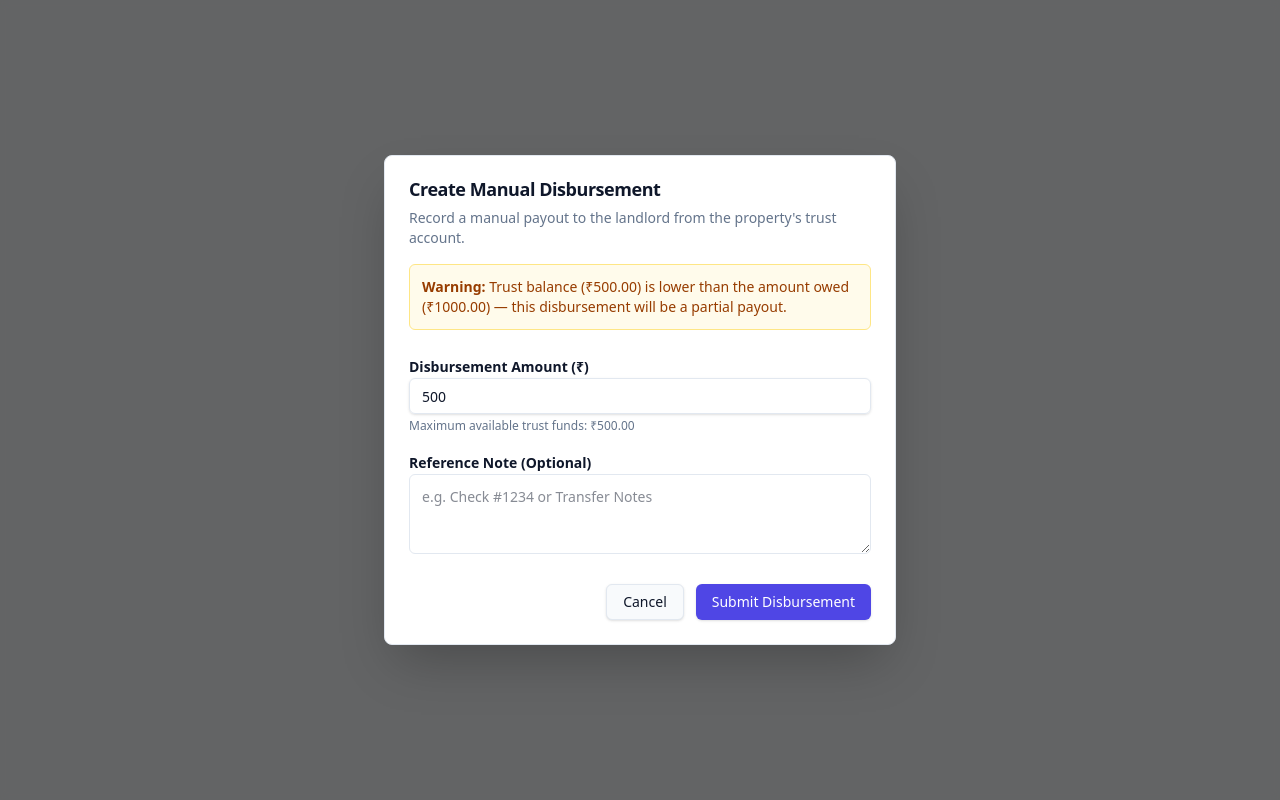
Test: CreateDisbursementDialog › shows an inline error and blocks submission if amount exceeds trustLedgerBalance
Replace the text in the number field labelled "Disbursement Amount (₹)" with "600": (640, 396) x1=409 y1=378 x2=871 y2=414
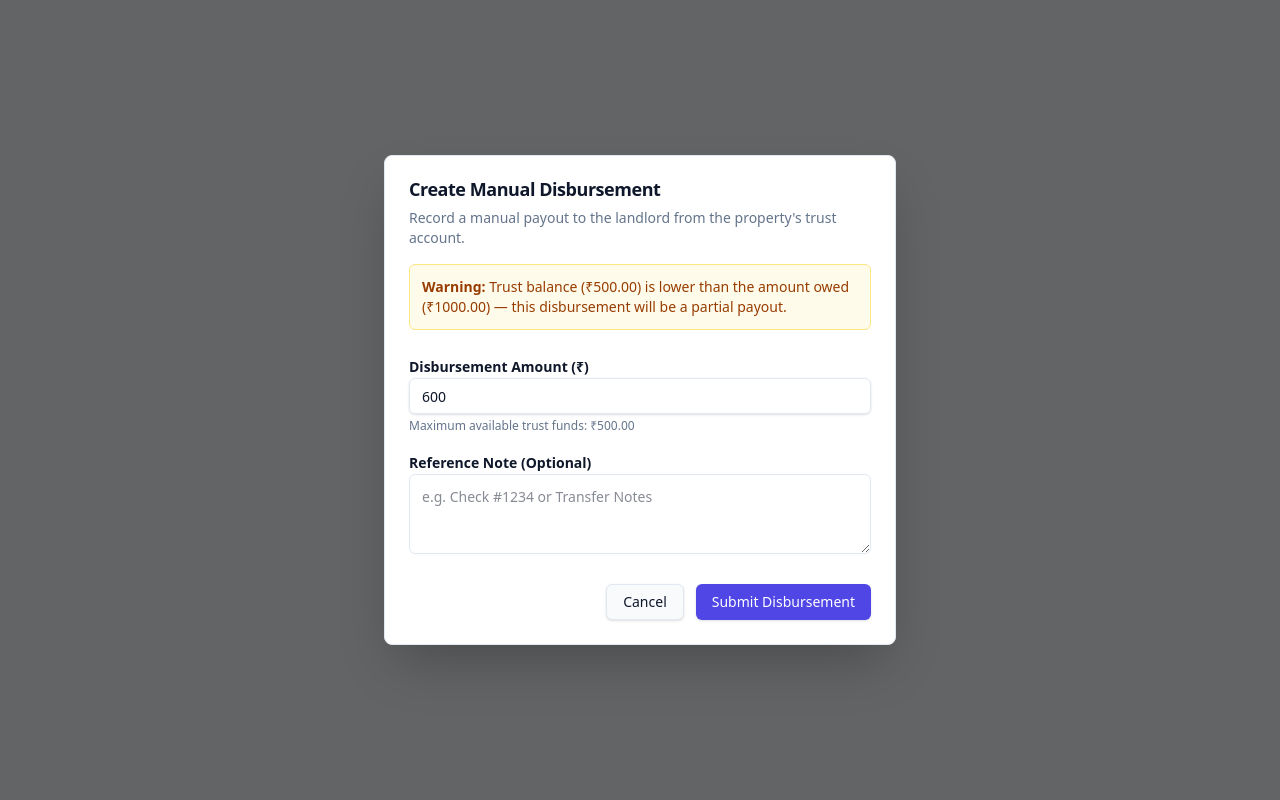
// Click submit
Click the button "Submit Disbursement": (783, 602) x1=696 y1=584 x2=871 y2=620
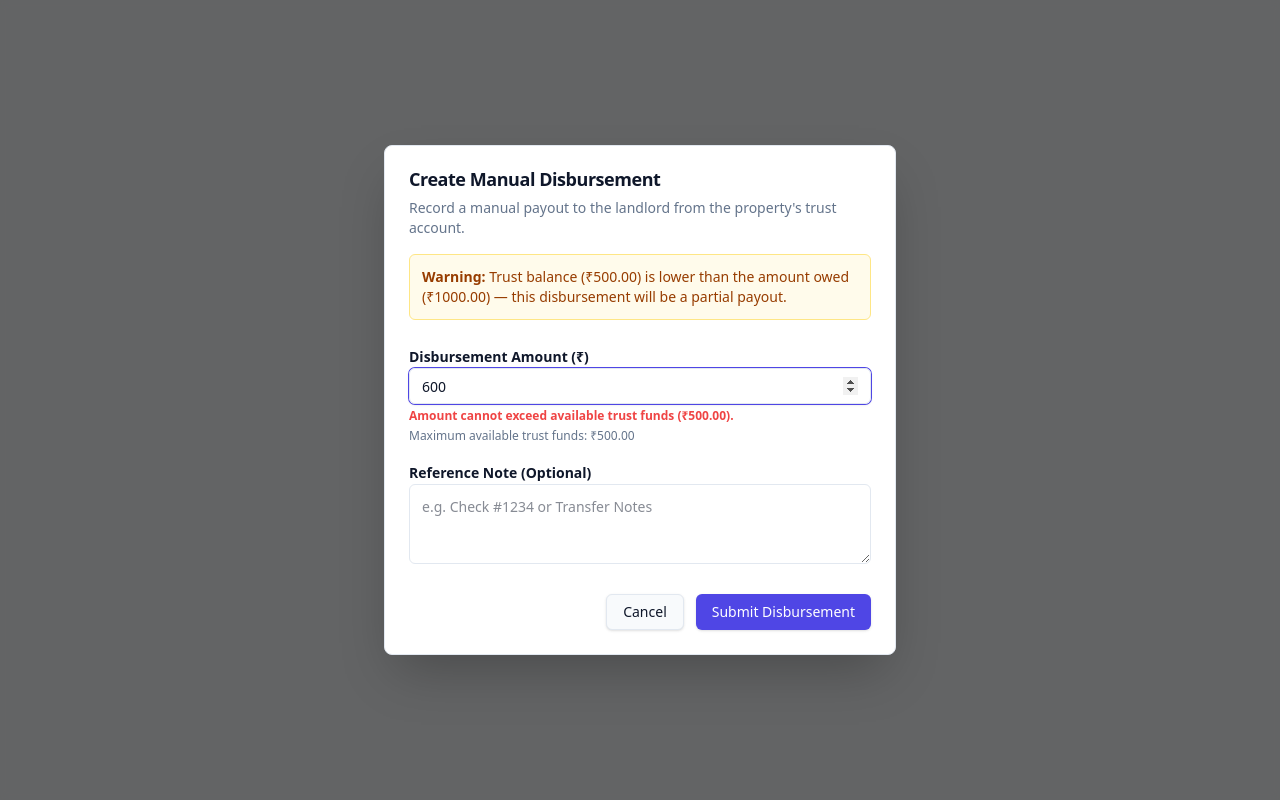
Now the text "Amount cannot exceed available trust funds (₹500.00)." is shown, box x1=409 y1=407 x2=734 y2=424
